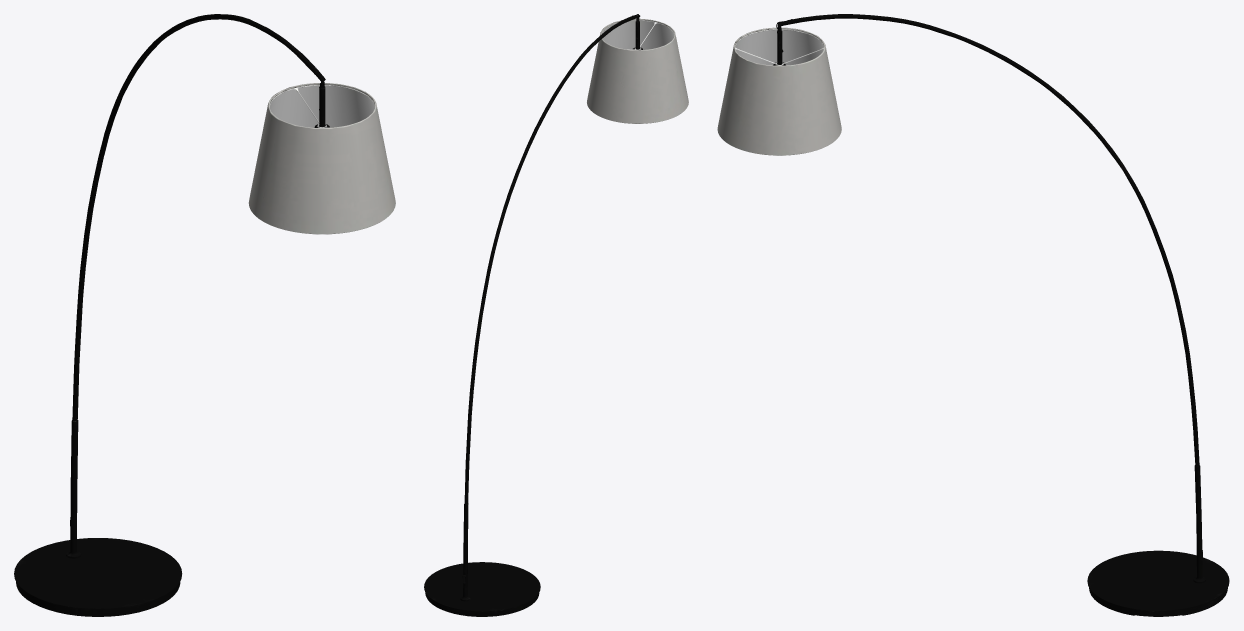
3 views of the same model, side by side, from view 1: azimuth 30°, elevation 25°; view 2: azimuth 150°, elevation 25°; view 3: azimuth 270°, elevation 25° (orthographic). The views are drawn at different scales.
Parts seen in each view (by area): view 1: Mesh_6; view 2: Mesh_6; view 3: Mesh_6.
Boxes of the visible parts, x1,y1,x2,y2 form: Mesh_6: [14, 14, 395, 616]; Mesh_6: [424, 14, 688, 616]; Mesh_6: [717, 14, 1229, 616].
Bounding box in the file's own units: 0.4799 × 2.14 × 1.73.
Materials: 2 (1 with a texture image).
